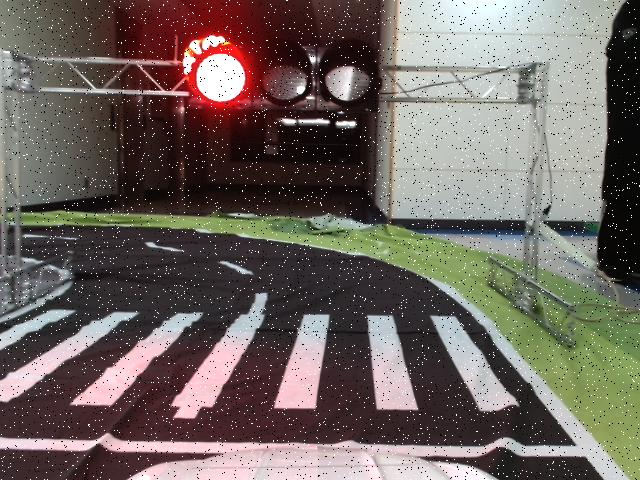crosswalk: (0, 307, 520, 412)
traffic light-red-: (185, 38, 379, 113)
